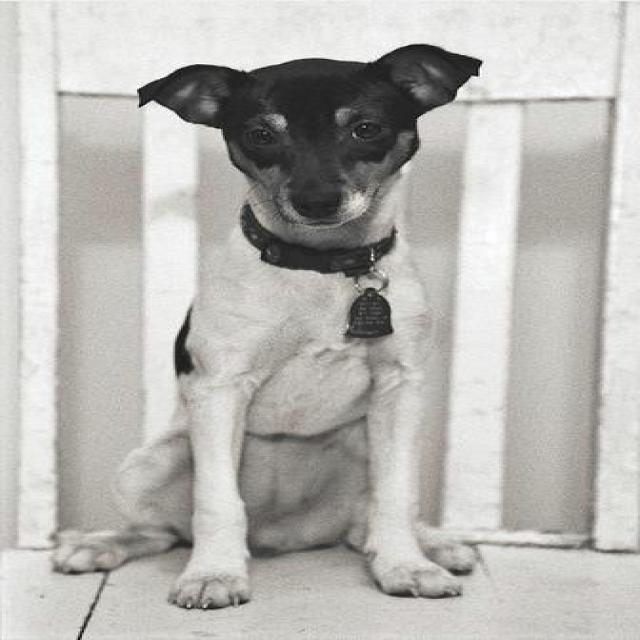toy_terrier: (48, 46, 484, 608)
